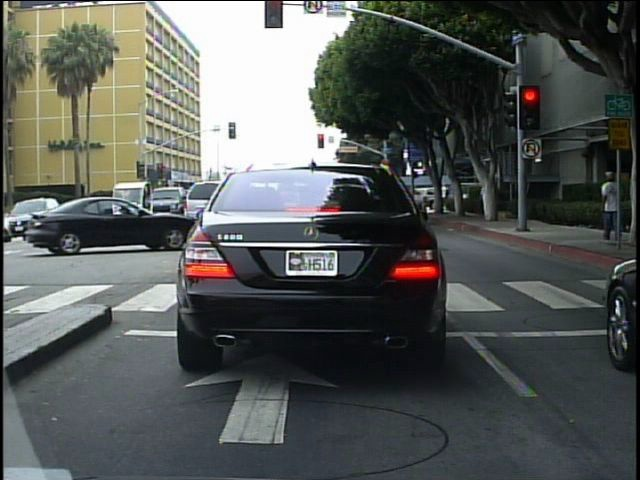person: (598, 167, 620, 243), (477, 180, 491, 218), (437, 179, 451, 213), (630, 165, 633, 256)
